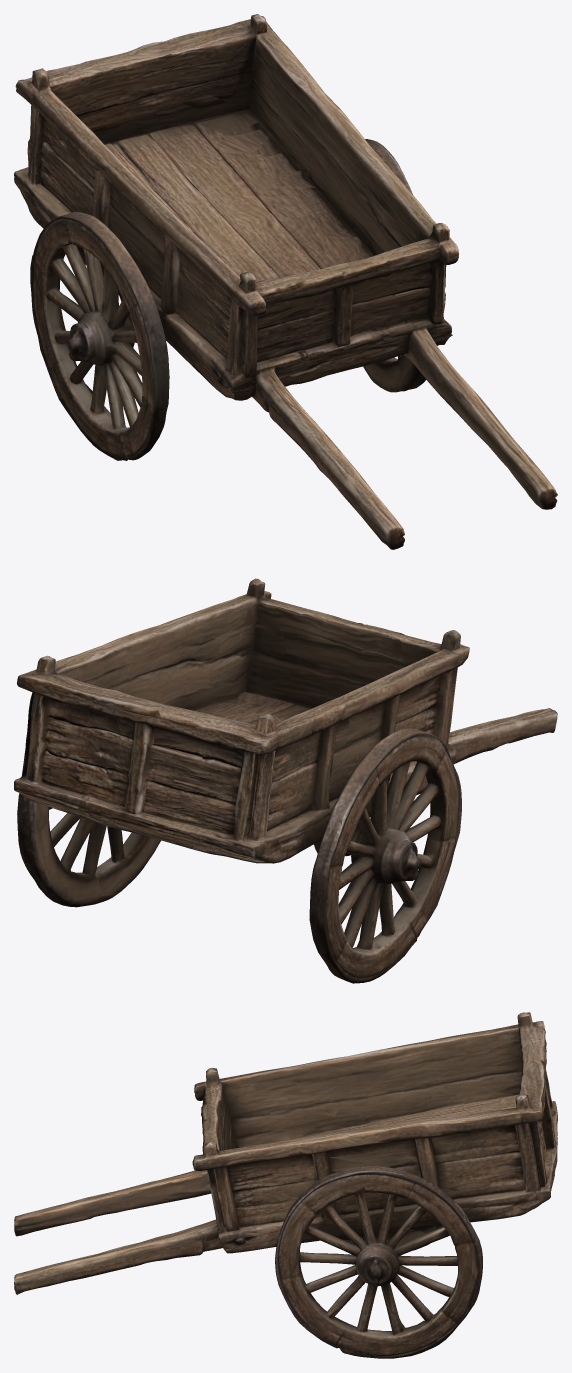
The model's file is SM_Xe_keo_BlenderOptimized.fbx.
The picture shows the model from 3 angles, top to bottom: view 1: azimuth 30°, elevation 25°; view 2: azimuth 150°, elevation 25°; view 3: azimuth 270°, elevation 25°; orthographic projection. The views are drawn at different scales.
Visible parts, largest first — view 1: tripo_node_cf8d1fe6-e64d-4674-a0a6-4096156c0595; view 2: tripo_node_cf8d1fe6-e64d-4674-a0a6-4096156c0595; view 3: tripo_node_cf8d1fe6-e64d-4674-a0a6-4096156c0595.
Part boxes in pixels (<box>): tripo_node_cf8d1fe6-e64d-4674-a0a6-4096156c0595: <box>14,14,557,549</box>; tripo_node_cf8d1fe6-e64d-4674-a0a6-4096156c0595: <box>14,578,557,983</box>; tripo_node_cf8d1fe6-e64d-4674-a0a6-4096156c0595: <box>14,1012,557,1358</box>.
Bounding box in the file's own units: 0.5687 × 0.4989 × 0.9777.
